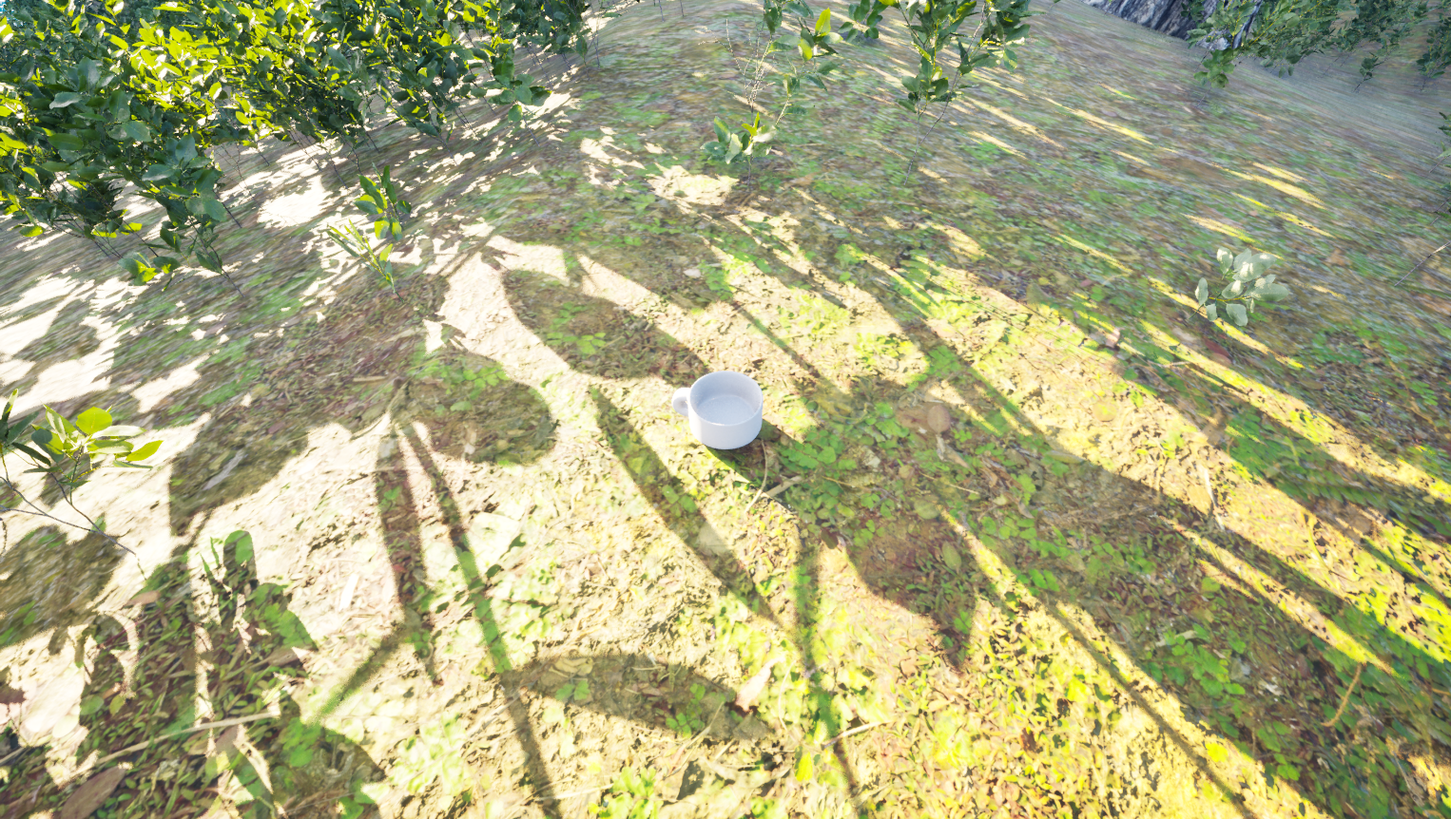Teacup: (665, 354, 779, 463)
